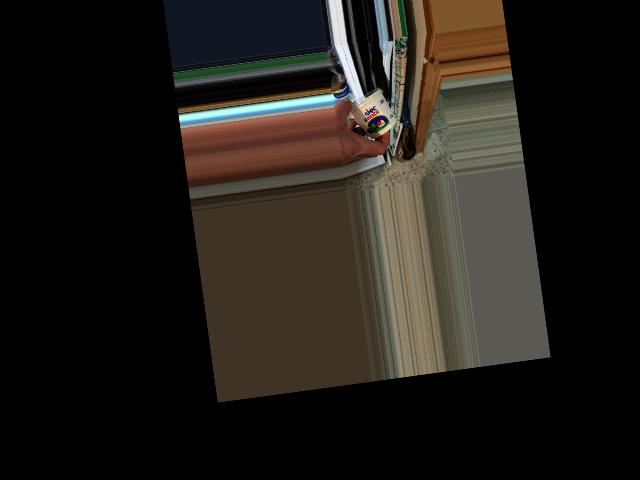cotage: (348, 84, 397, 139)
